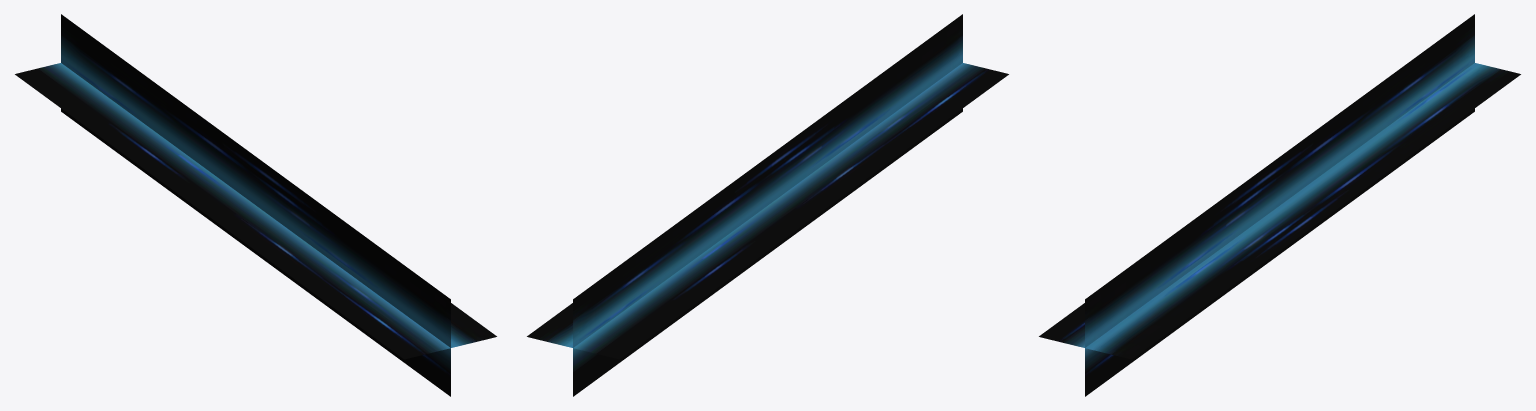
The picture shows the model from 3 angles, left to right: view 1: azimuth 30°, elevation 25°; view 2: azimuth 150°, elevation 25°; view 3: azimuth 330°, elevation 25°; orthographic projection.
Visible parts, largest first — view 1: model_Object56; view 2: model_Object56; view 3: model_Object56.
Part boxes in pixels (x1,y1,x2,y2): model_Object56: (15,14,496,396); model_Object56: (527,14,1008,396); model_Object56: (1039,14,1520,396).
Bounding box in the file's own units: 1.81 × 1.81 × 13.09.
Materials: 1 (1 with a texture image).
